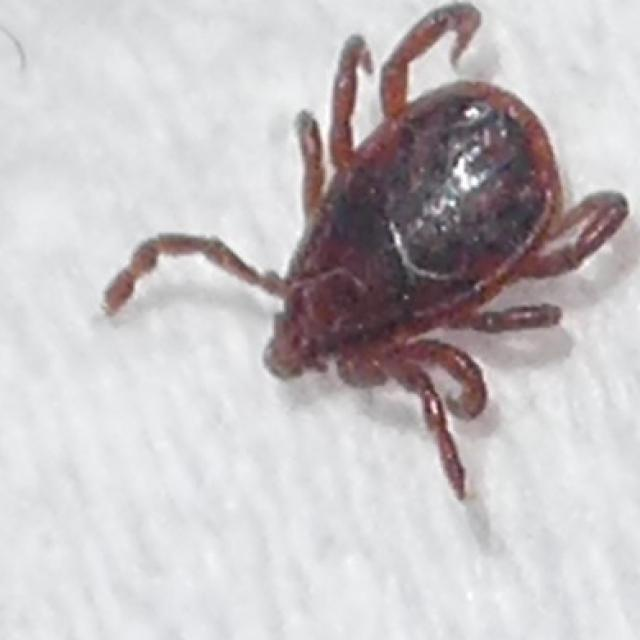Rhipicephalus Sanguineus-M: (107, 3, 629, 497)
